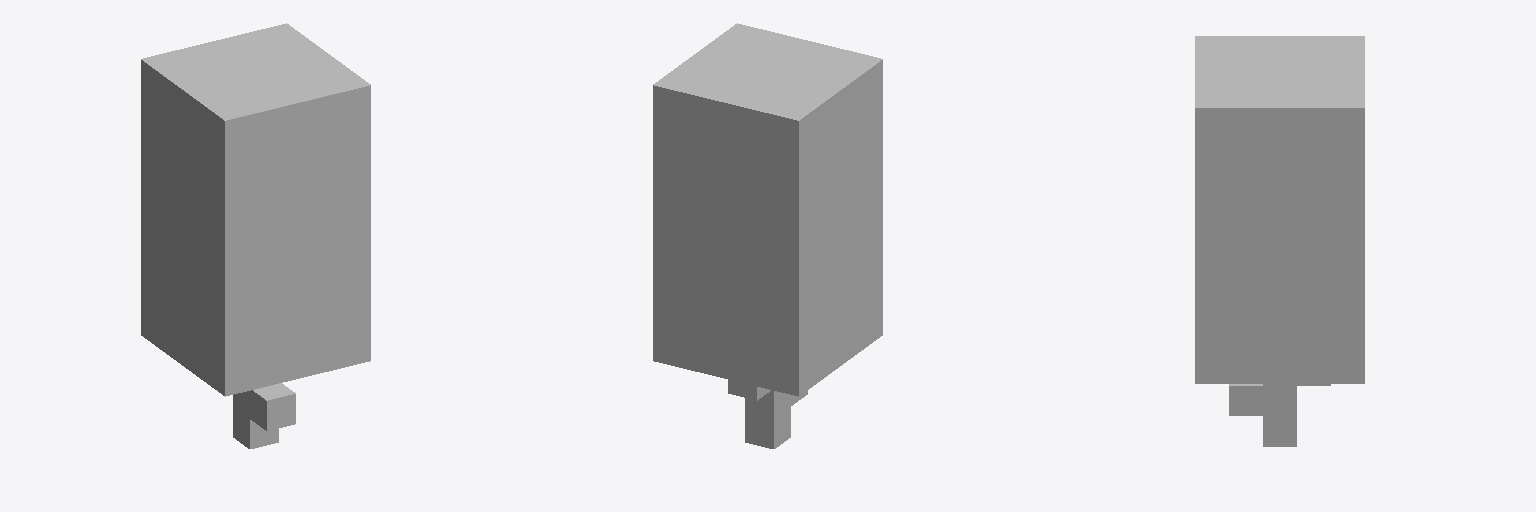
Rendered from tree1.vox.obj.
3 renders of one model, left to right at view 1: azimuth 30°, elevation 25°; view 2: azimuth 150°, elevation 25°; view 3: azimuth 270°, elevation 25°, orthographic.
Visible parts, largest first — view 1: object 1; view 2: object 1; view 3: object 1.
Part boxes in pixels (bbox=[...]): object 1: bbox=[141, 23, 370, 448]; object 1: bbox=[653, 23, 882, 448]; object 1: bbox=[1195, 36, 1364, 446].
Bounding box in the file's own units: 0.5 × 1.2 × 0.5.